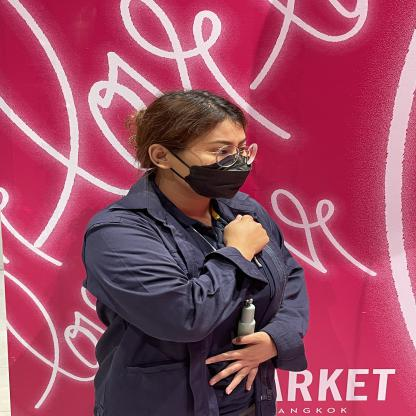Sadness: (98, 199, 326, 301)
